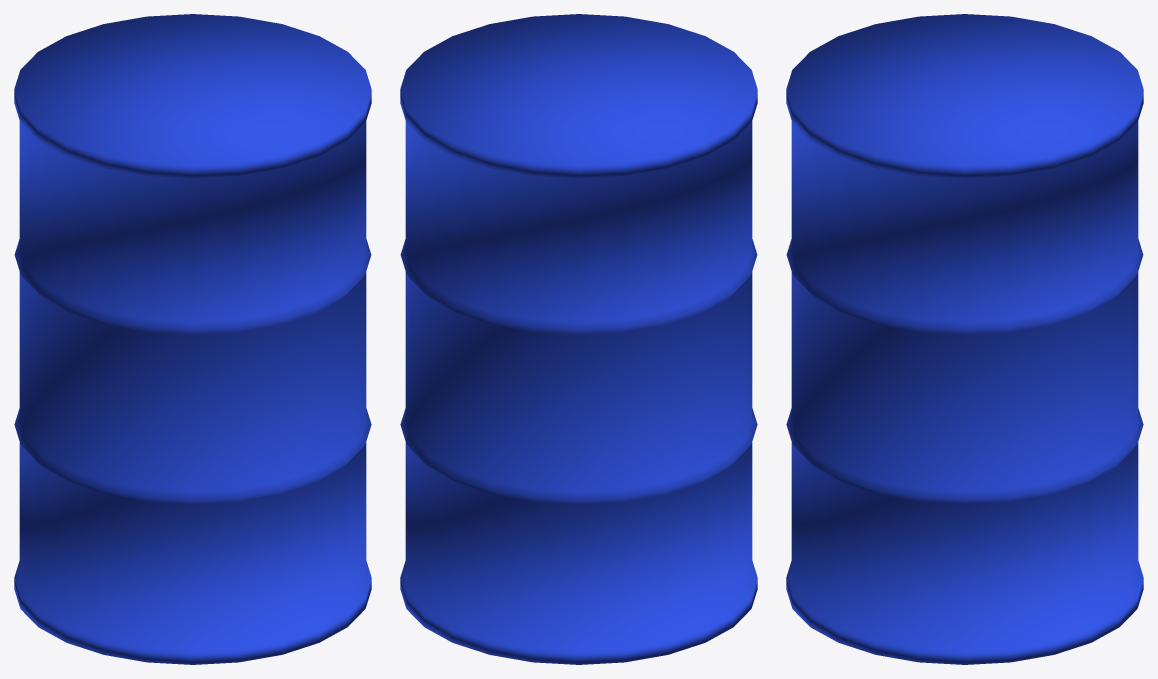
The model's file is metal_barrel01.gltf.
3 views of the same model, side by side, from view 1: azimuth 30°, elevation 25°; view 2: azimuth 150°, elevation 25°; view 3: azimuth 270°, elevation 25° (orthographic).
Visible parts, largest first — view 1: badbarrel; view 2: badbarrel; view 3: badbarrel.
Boxes of the visible parts, <box> form: badbarrel: <box>14,14,371,664</box>; badbarrel: <box>400,14,757,664</box>; badbarrel: <box>786,14,1143,664</box>.
Size of the model in its own units: 1 by 1.55 by 1.
